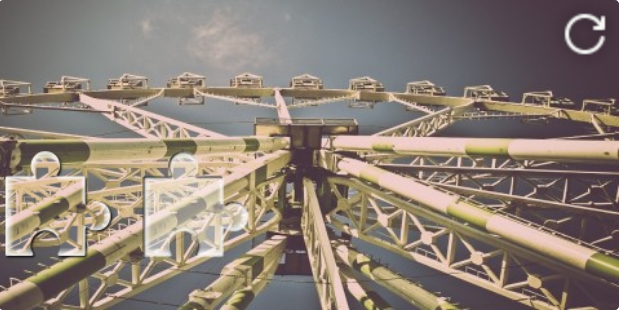target: (144, 151, 247, 258)
